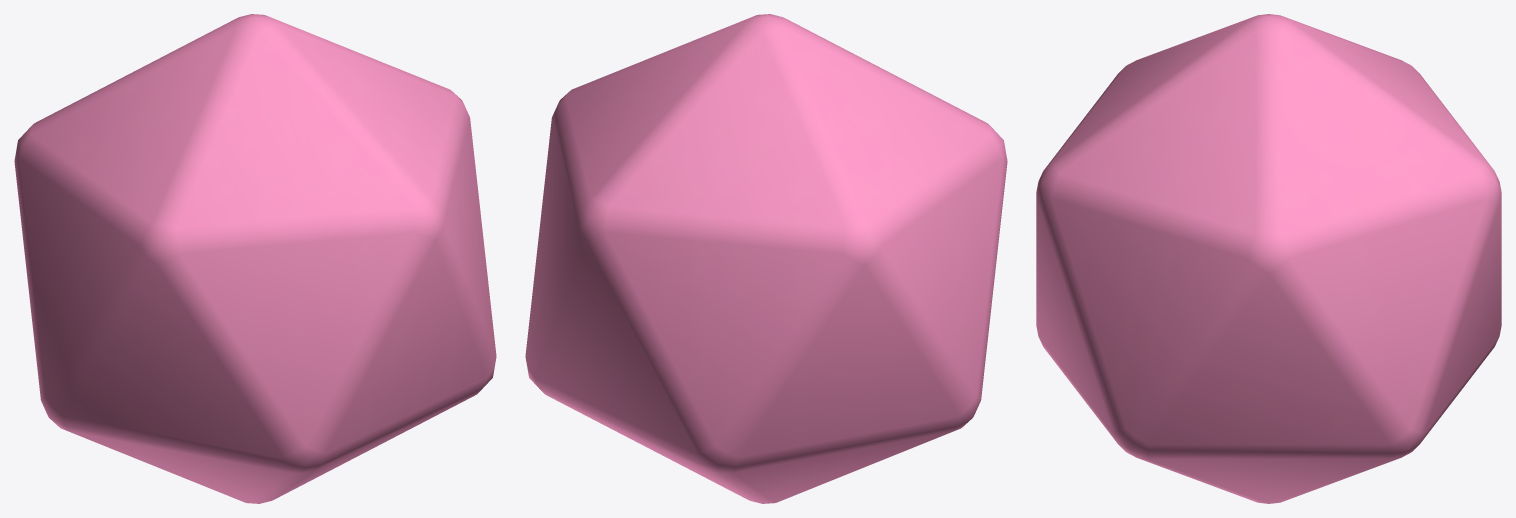
File: D20Small_2.fbx
3 renders of one model, left to right at view 1: azimuth 30°, elevation 25°; view 2: azimuth 150°, elevation 25°; view 3: azimuth 270°, elevation 25°, orthographic.
Parts seen in each view (by area): view 1: Icosphere; view 2: Icosphere; view 3: Icosphere.
Boxes of the visible parts, left/top/right/bottom form: Icosphere: left=14, top=14, right=496, bottom=503; Icosphere: left=525, top=14, right=1007, bottom=503; Icosphere: left=1036, top=14, right=1501, bottom=503.
Size of the model in its own units: 175 by 193 by 168.
